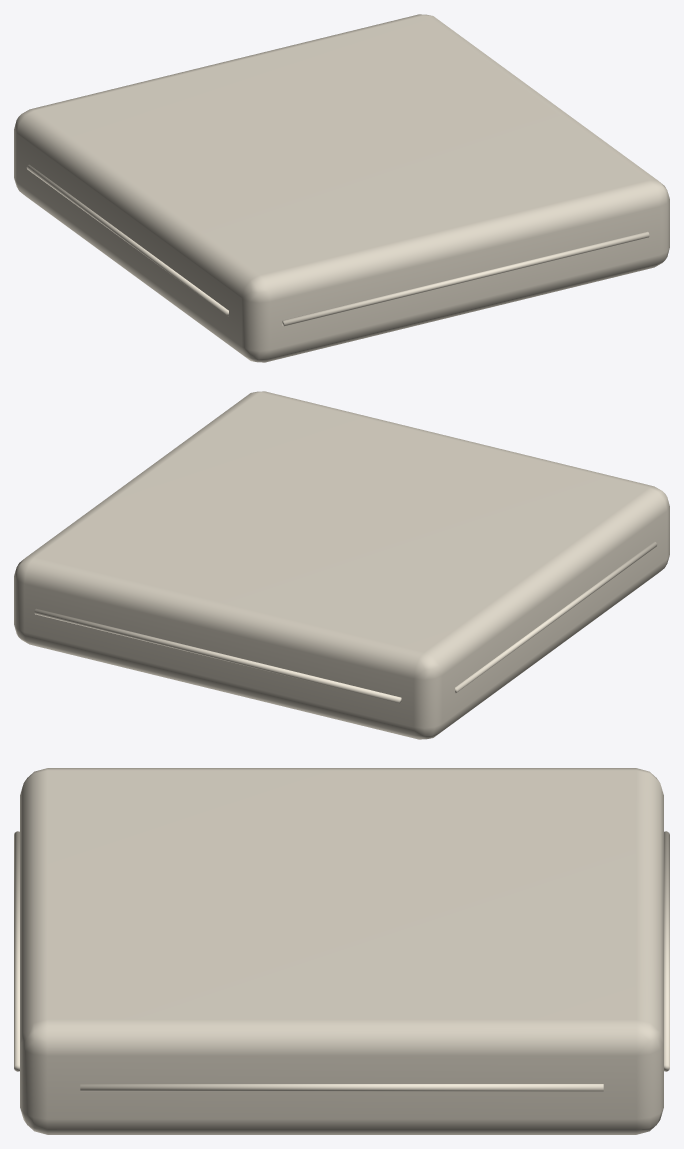
File: almofada-jardim.glb
3 renders of one model, top to bottom at view 1: azimuth 30°, elevation 25°; view 2: azimuth 150°, elevation 25°; view 3: azimuth 270°, elevation 25°, orthographic. The views are drawn at different scales.
Visible parts, largest first — view 1: Almofada interior, Pesponto lateral, Pesponto de canto; view 2: Almofada interior, Pesponto lateral.001, Pesponto de canto; view 3: Almofada interior, Pesponto de canto.001, Pesponto lateral, Pesponto lateral.001.
Boxes of the visible parts, x1,y1,x2,y2 form: Almofada interior: (14,14,669,362); Pesponto lateral: (282,231,649,326); Pesponto de canto: (26,164,228,316); Almofada interior: (14,391,669,739); Pesponto lateral.001: (34,608,401,703); Pesponto de canto: (455,541,657,693); Almofada interior: (20,768,663,1134); Pesponto de canto.001: (80,1084,603,1091); Pesponto lateral: (14,831,19,1071); Pesponto lateral.001: (664,831,669,1071).
Bounding box in the file's own units: 0.4145 × 0.0792 × 0.4172.
